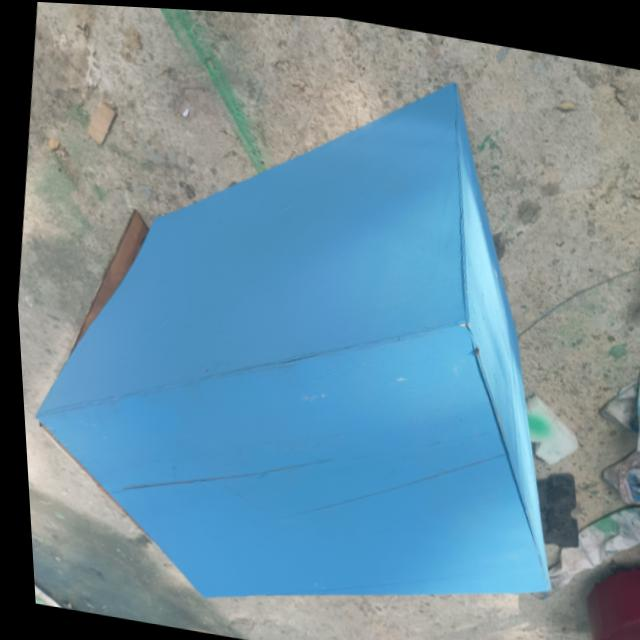blue_box: (0, 2, 611, 640)
